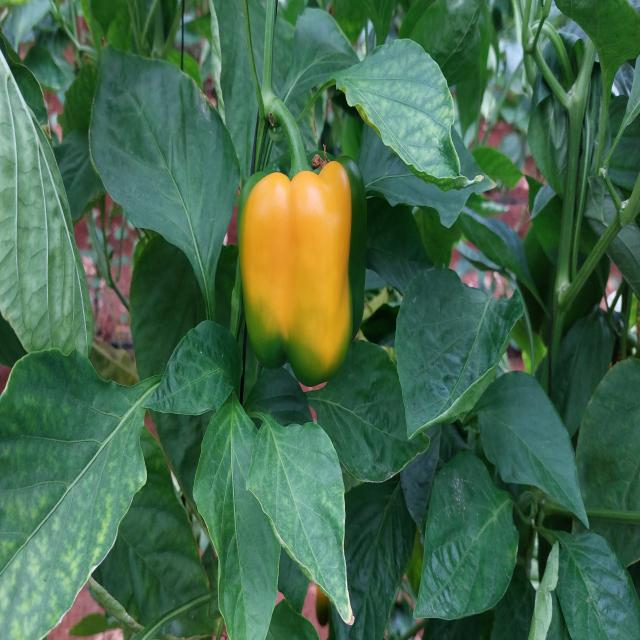Yellow-Ready-to-Harvest: (246, 162, 356, 368)
